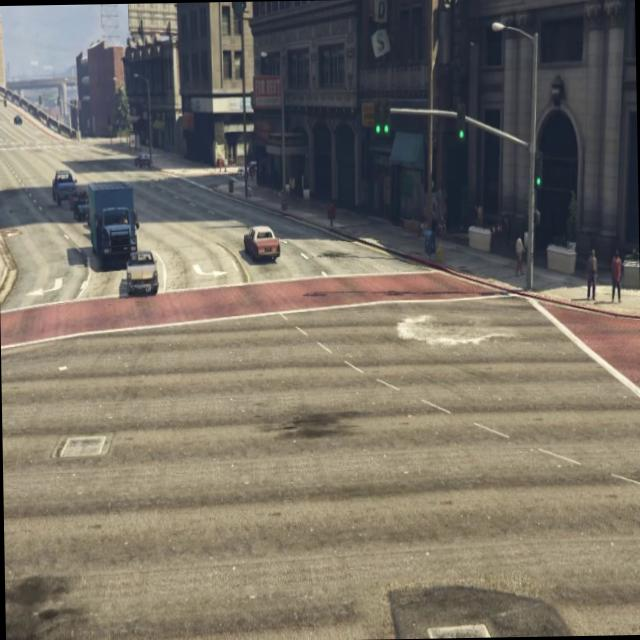Green-Signal: (368, 86, 398, 162), (526, 141, 552, 207), (452, 94, 473, 160)
